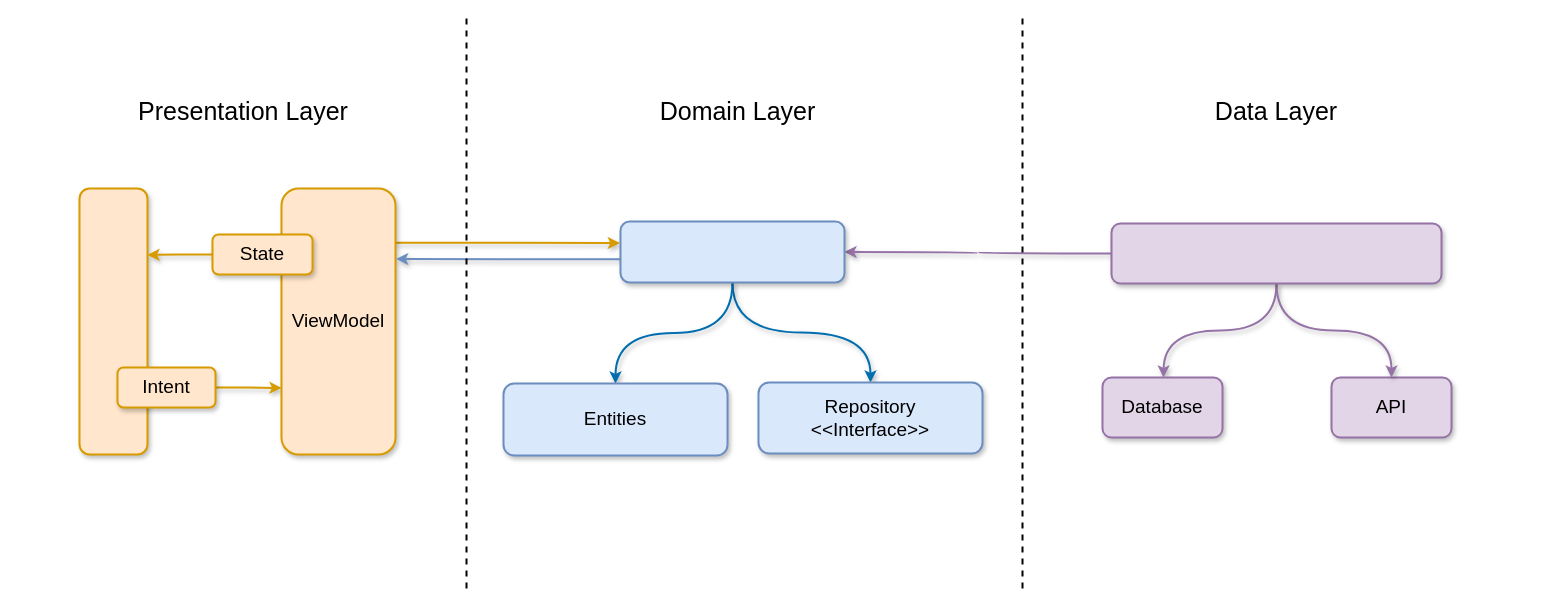
Image size: 1544x606. Some labels were removed from this diagram. Each missing label, with the centre of its shape:
Repository Implementation: the point at 1277,254
UseCase: the point at 733,253
View: the point at 114,322
